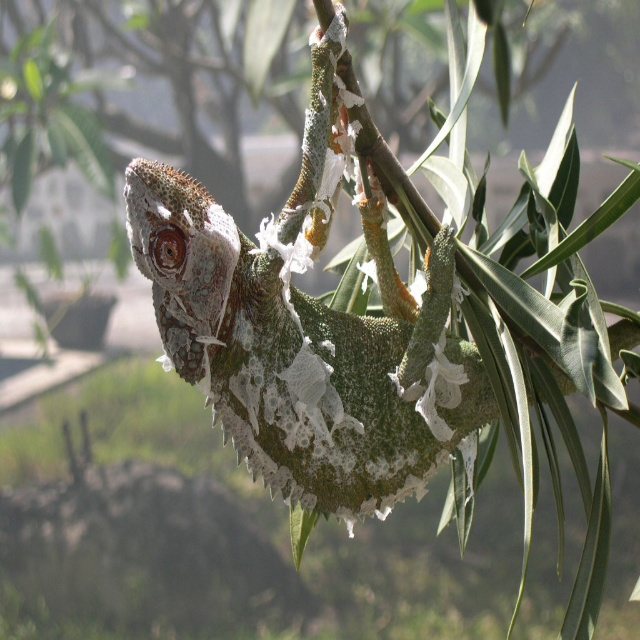Lizard: (138, 50, 595, 588)
